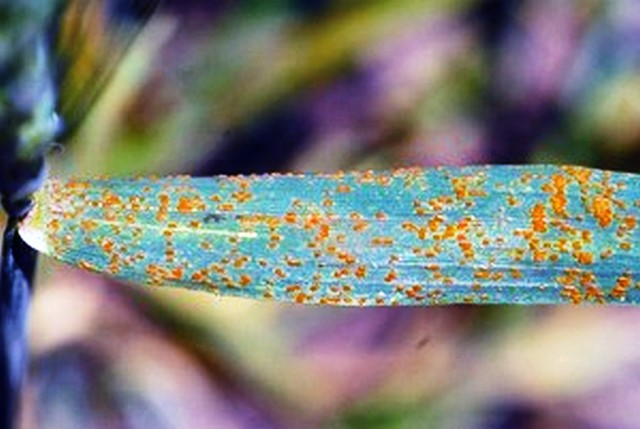Leaf Rust: (51, 166, 640, 323)
